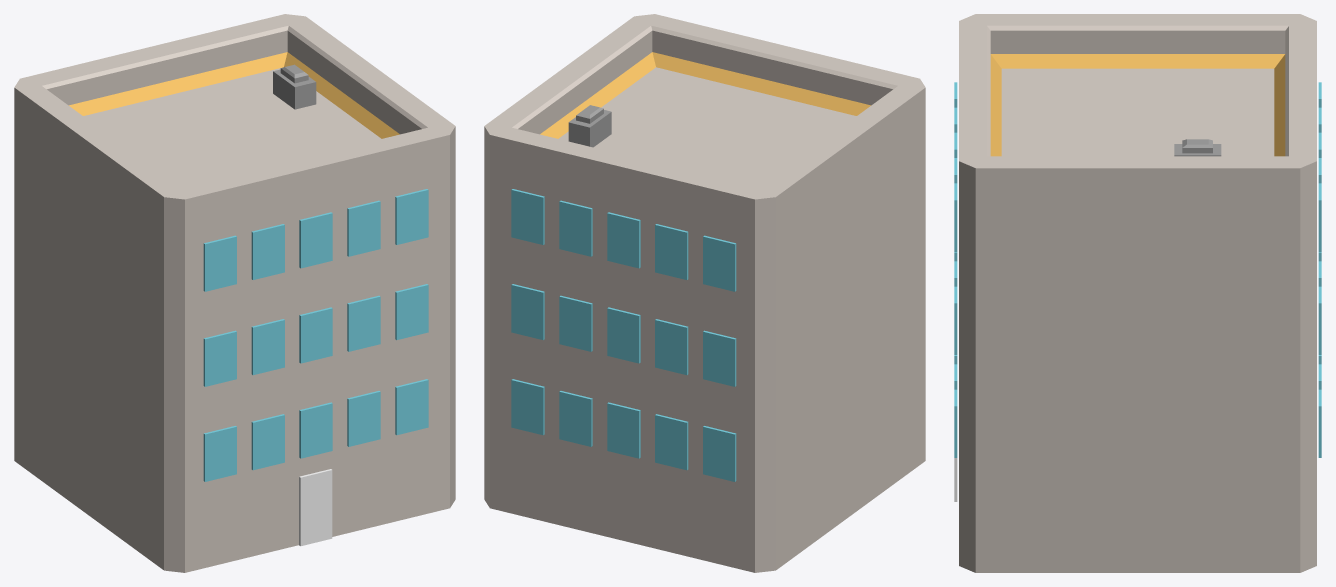
File: Building_Top_Missing.fbx
3 views of the same model, side by side, from view 1: azimuth 30°, elevation 25°; view 2: azimuth 150°, elevation 25°; view 3: azimuth 270°, elevation 25° (orthographic). The views are drawn at different scales.
Parts seen in each view (by area): view 1: Cylinder.001, Cube.001, Cube.003, Cube.004; view 2: Cylinder.001, Cube.001, Cube.004; view 3: Cylinder.001, Cube.001, Cube.004.
Boxes of the visible parts, x1=… form: Cylinder.001: x1=14, y1=14, x2=455, y2=572; Cube.001: x1=203, y1=189, x2=428, y2=481; Cube.003: x1=299, y1=469, x2=332, y2=546; Cube.004: x1=273, y1=64, x2=316, y2=109; Cylinder.001: x1=484, y1=14, x2=925, y2=572; Cube.001: x1=511, y1=189, x2=736, y2=481; Cube.004: x1=568, y1=105, x2=611, y2=147; Cylinder.001: x1=959, y1=14, x2=1316, y2=572; Cube.001: x1=954, y1=82, x2=1321, y2=457; Cube.004: x1=1174, y1=139, x2=1221, y2=156.
Bounding box in the file's own units: 200 × 245 × 201.
